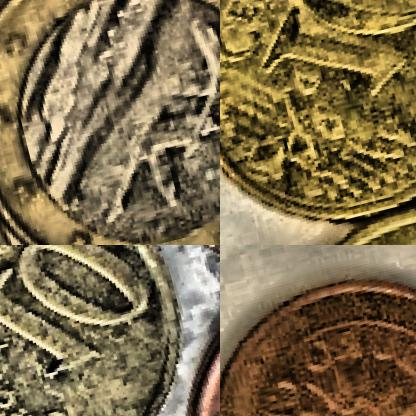coin: (0, 0, 219, 244), (220, 0, 415, 244), (0, 245, 212, 415), (220, 245, 415, 415)
